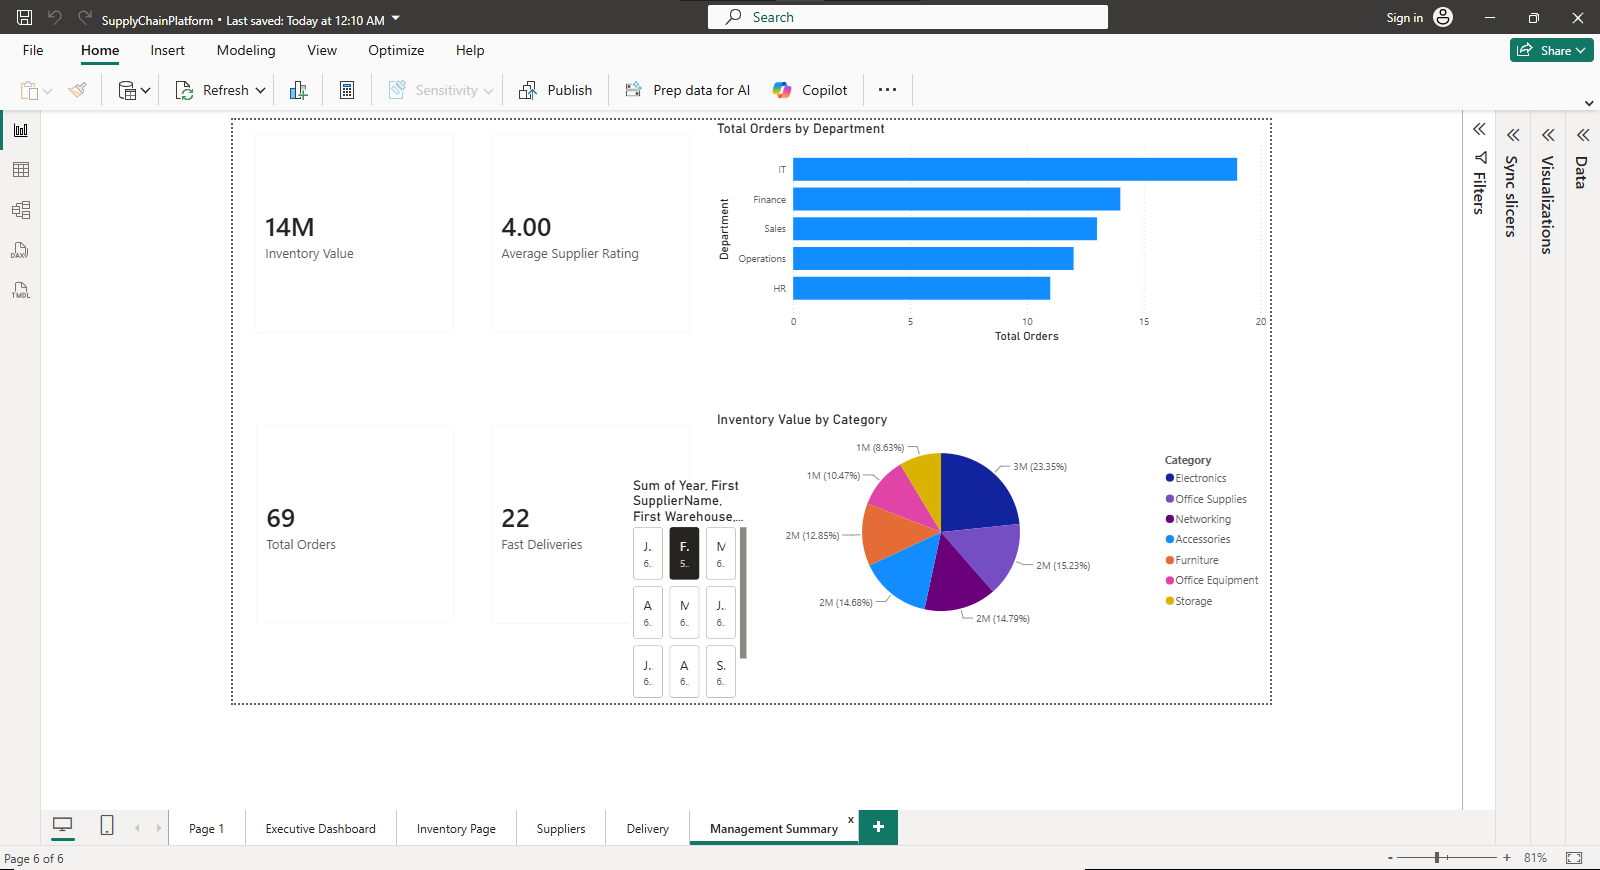

What the dashboard file says about the page in this screenshot:
{"tool":"powerbi","page":{"name":"Management Summary","canvas":[1280,720],"ordinal":5},"visuals":[{"type":"cardVisual","fields":{"Data":["Orders.Inventory Value"]},"box":[10,0,280,280],"z":0},{"type":"cardVisual","fields":{"Data":["Orders.Total Orders"]},"box":[11,359.1,279.6,279.6],"z":1},{"type":"cardVisual","fields":{"Data":["Orders.Average Supplier Rating"]},"box":[301,0,280,280],"z":2},{"type":"cardVisual","fields":{"Data":["Orders.Fast Deliveries"]},"box":[301,359,280,280],"z":3},{"type":"clusteredBarChart","fields":{"Category":["Orders.Department"],"Y":["Orders.Total Orders"]},"box":[592,0,688,279.6],"z":4},{"type":"pieChart","fields":{"Category":["Inventory.Category"],"Y":["Orders.Inventory Value"]},"box":[592,359,688,280],"z":5},{"type":"advancedSlicerVisual","fields":{"Label":["Sum(Calendar.Year)"],"Values":["Calendar.Month"]},"box":[489.3,440.5,150.7,279.8],"z":6}]}

Visuals, with their boxes on the page's 1280x720 design canvas (x1, y1, x2, y2). These are canvas units, not pixel positions in the 1600x870 screenshot, which may show the page scaled, cropped or inside an application window:
cardVisual - Orders.Inventory Value: 10,0,290,280
cardVisual - Orders.Total Orders: 11,359,291,639
cardVisual - Orders.Average Supplier Rating: 301,0,581,280
cardVisual - Orders.Fast Deliveries: 301,359,581,639
clusteredBarChart - Orders.Department x Orders.Total Orders: 592,0,1280,280
pieChart - Inventory.Category x Orders.Inventory Value: 592,359,1280,639
advancedSlicerVisual - Sum(Calendar.Year) x Calendar.Month: 489,440,640,720
